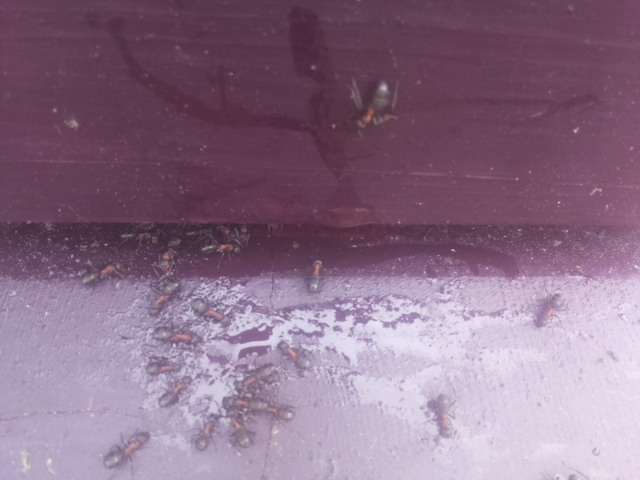ant: (344, 65, 407, 145), (95, 410, 157, 480), (180, 294, 238, 330), (423, 388, 460, 443), (144, 272, 184, 321), (233, 394, 294, 424), (187, 409, 222, 461), (72, 257, 131, 287), (269, 337, 316, 374), (153, 374, 197, 409), (534, 288, 566, 330), (234, 362, 280, 390), (156, 232, 183, 278), (304, 255, 331, 297), (145, 325, 199, 345), (199, 236, 241, 260), (227, 412, 254, 449), (145, 357, 182, 376)
